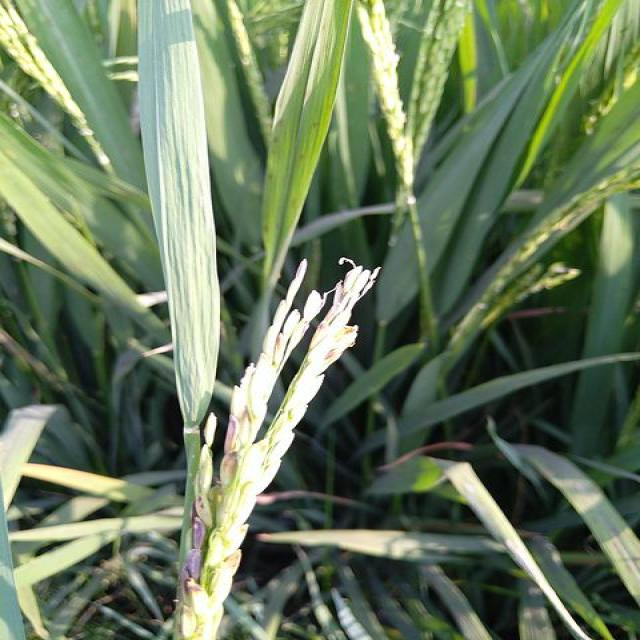Panicle Blight: (184, 517, 207, 598), (313, 281, 343, 341), (220, 425, 243, 476), (327, 325, 360, 360), (225, 550, 241, 577), (275, 329, 287, 361), (193, 493, 205, 517)
